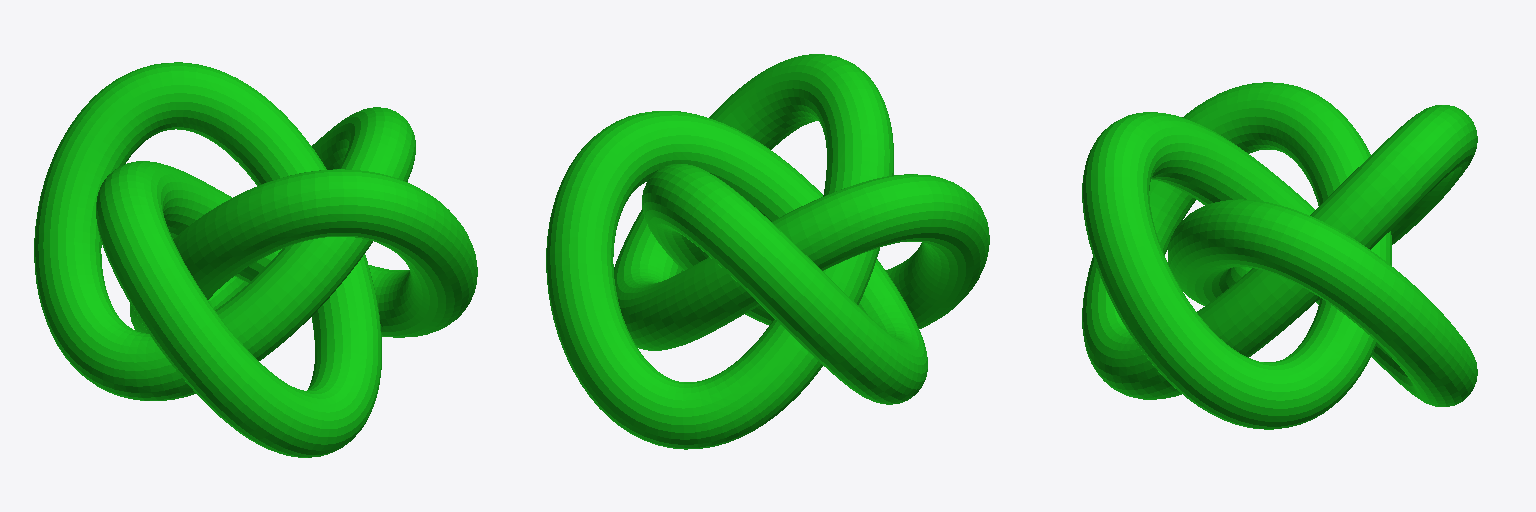
File: knot.obj
3 renders of one model, left to right at view 1: azimuth 30°, elevation 25°; view 2: azimuth 150°, elevation 25°; view 3: azimuth 270°, elevation 25°, orthographic.
Bounding box in the file's own units: 5.86 × 4.48 × 5.86.